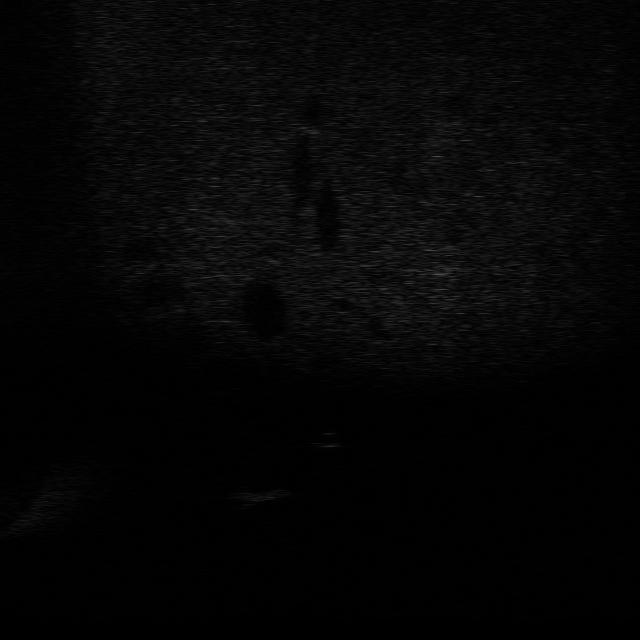ball: (310, 426, 348, 450)
human body: (285, 334, 333, 402)
square cage: (225, 480, 293, 512)
